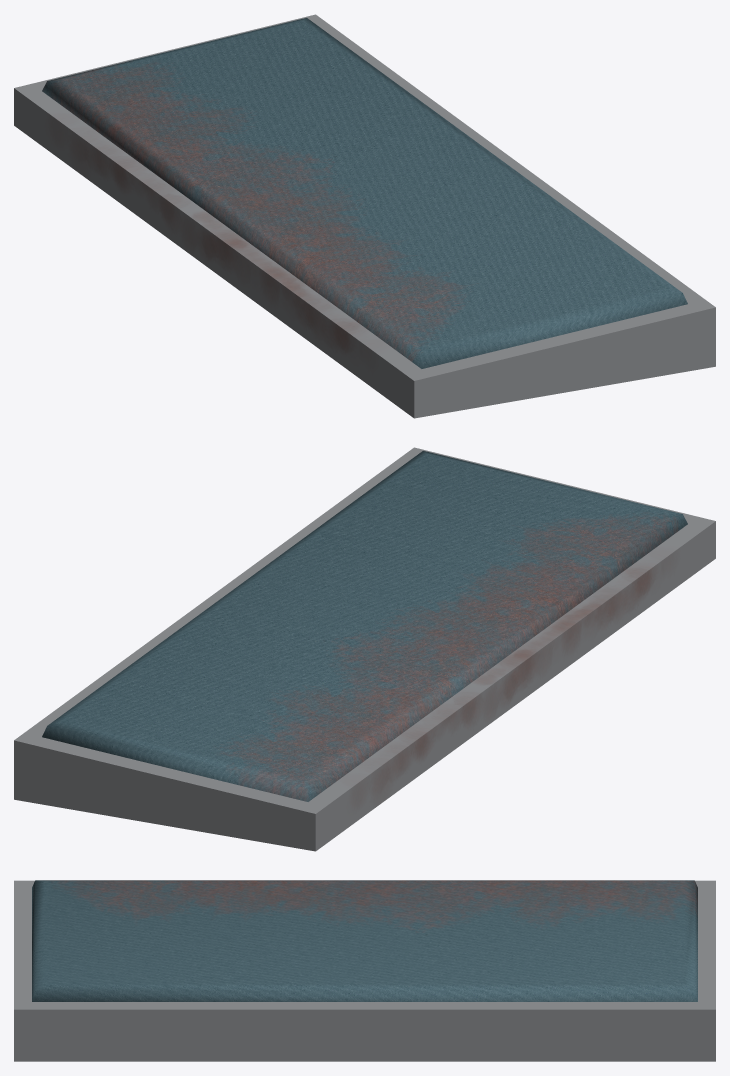
The model's file is bed.fbx.
3 renders of one model, top to bottom at view 1: azimuth 30°, elevation 25°; view 2: azimuth 150°, elevation 25°; view 3: azimuth 270°, elevation 25°, orthographic. The views are drawn at different scales.
Visible parts, largest first — view 1: bed; view 2: bed; view 3: bed.
Boxes of the visible parts, x1,y1,x2,y2 form: bed: [14, 14, 715, 418]; bed: [14, 447, 715, 851]; bed: [14, 880, 715, 1061].
Bounding box in the file's own units: 3.58 × 0.8333 × 8.23.
2 materials, 2 textured.
